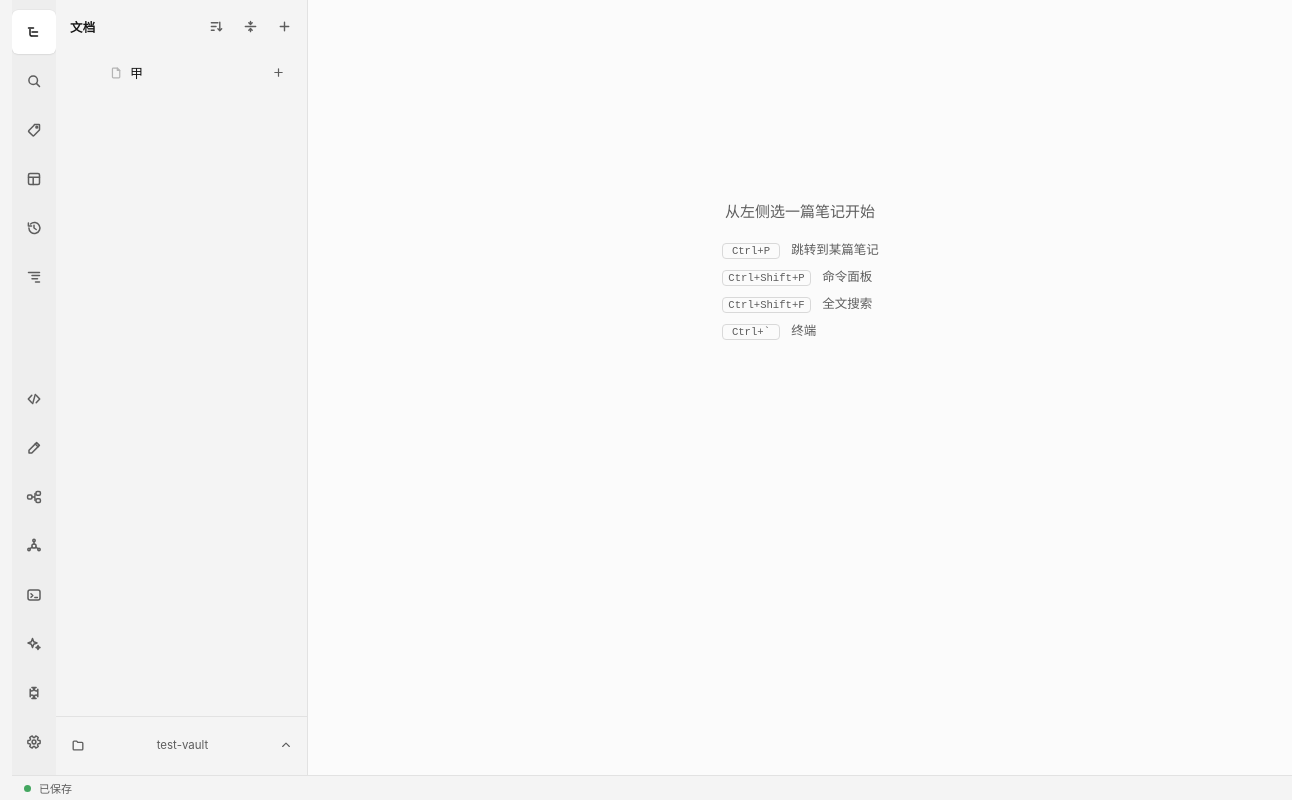
it: 新建文档：不弹窗，就地改名 › Esc 放弃改名，但文档留着
Click the button named "新建文档" at (284, 26), box [268, 10, 300, 42]
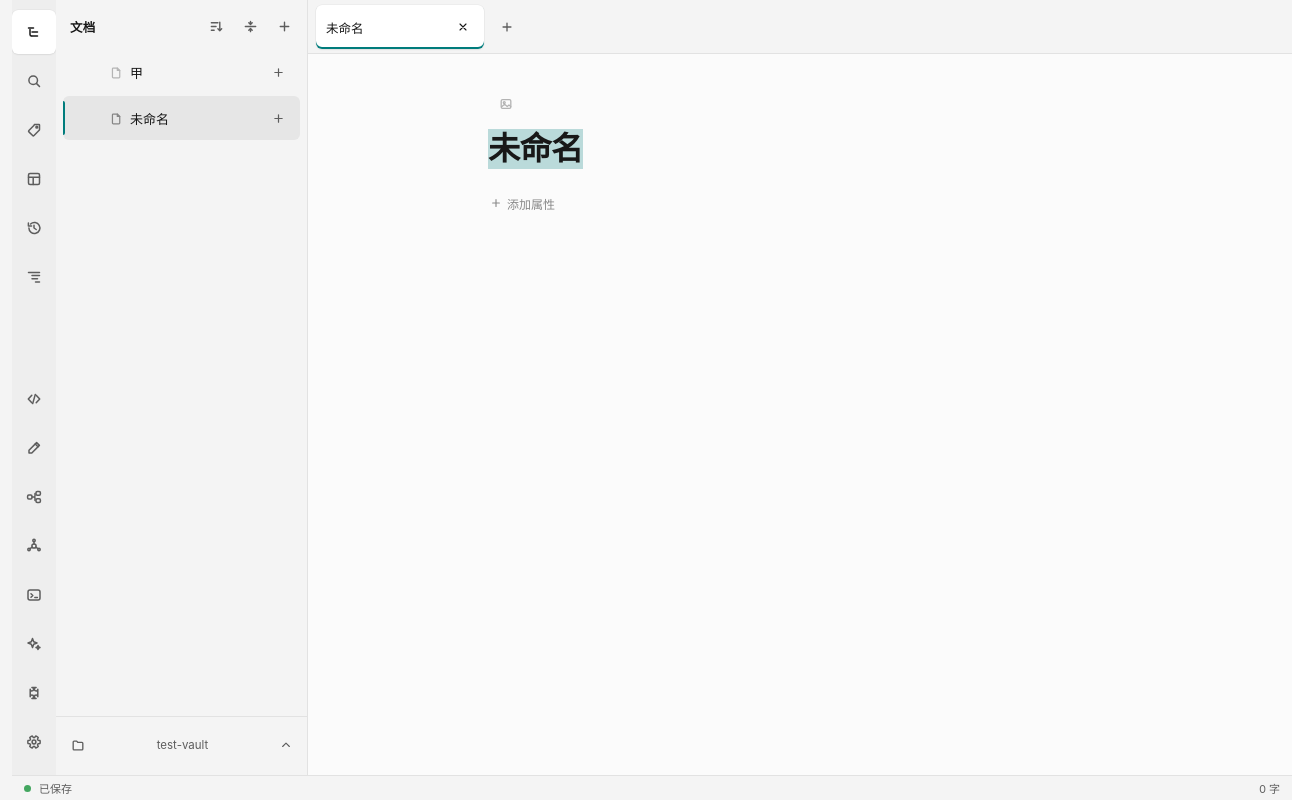
Replace the text in the field with class "doc-title-input" with "还没想好" at (798, 149), box [484, 127, 1112, 171]
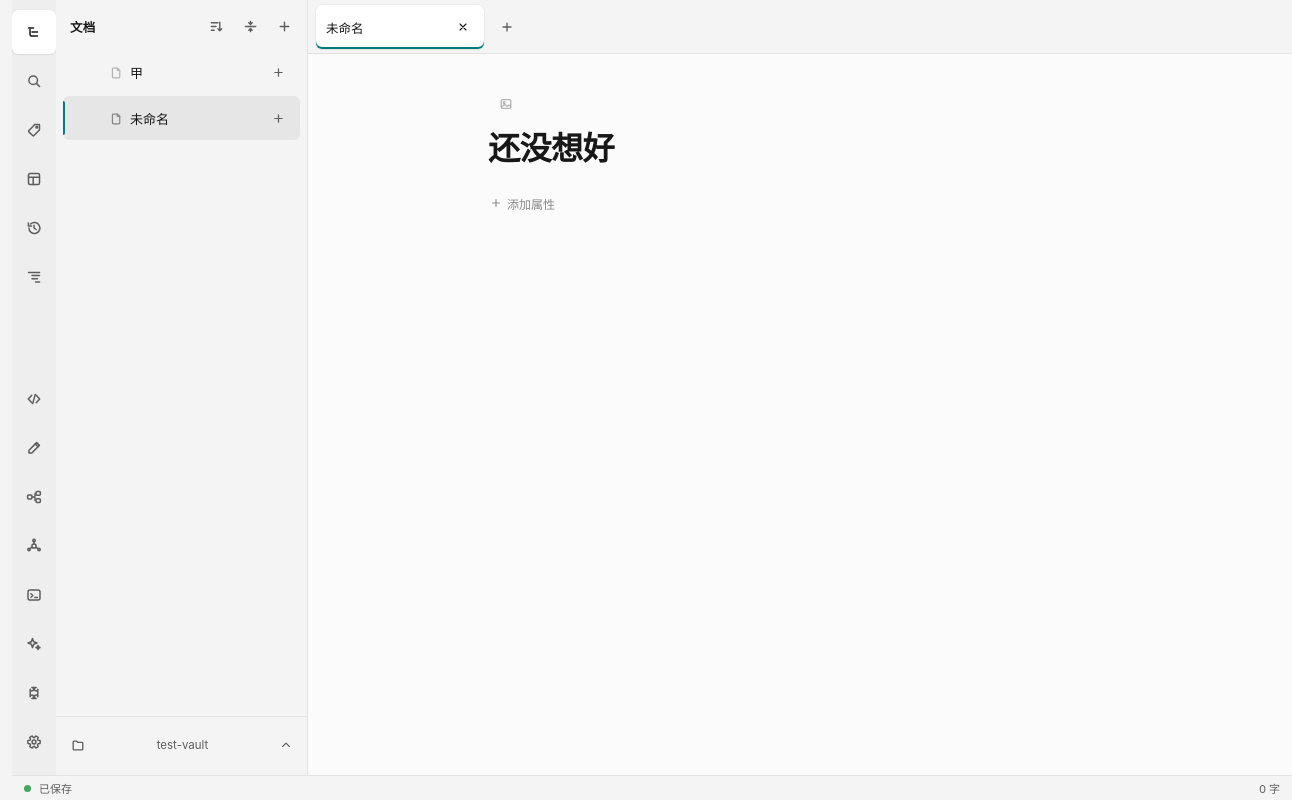
Press Escape in the field with class "doc-title-input", box [484, 127, 1112, 171]
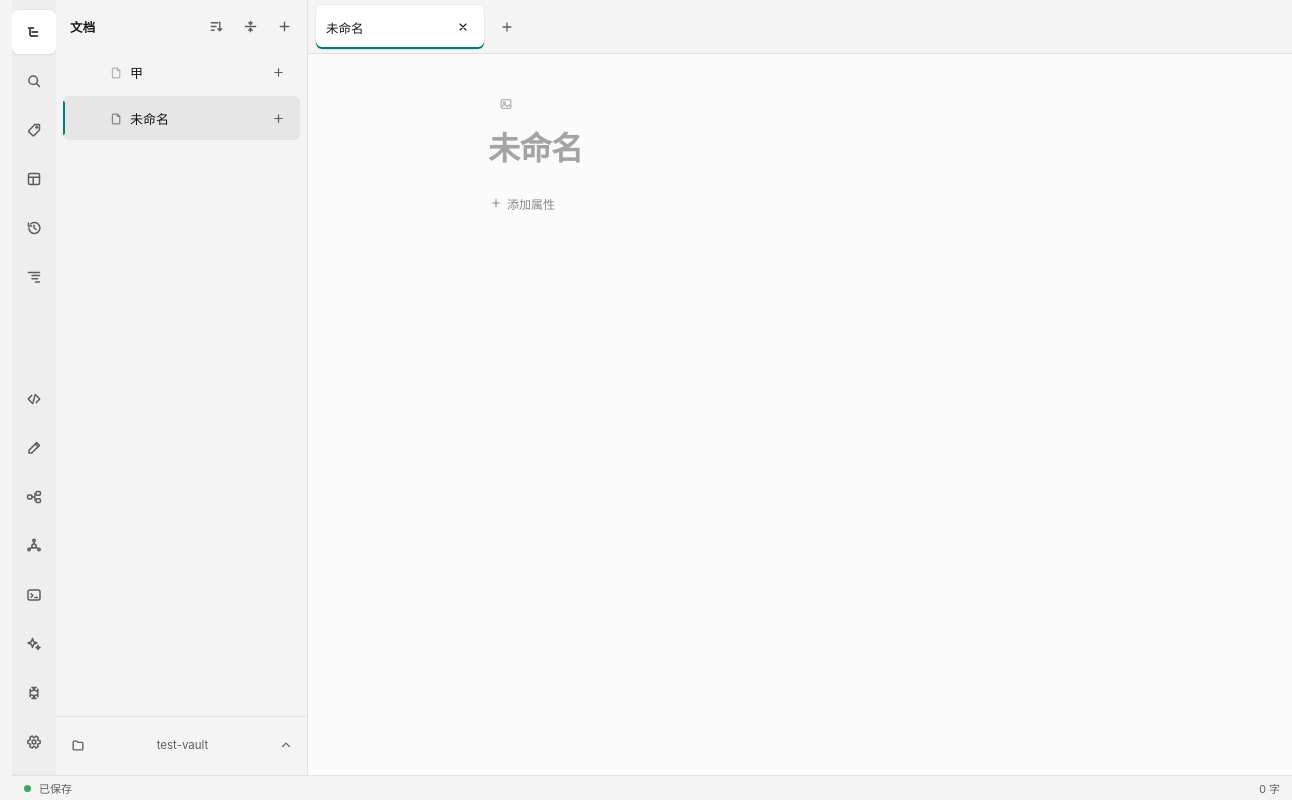
expect the field with class "doc-title-input" is gone: met
